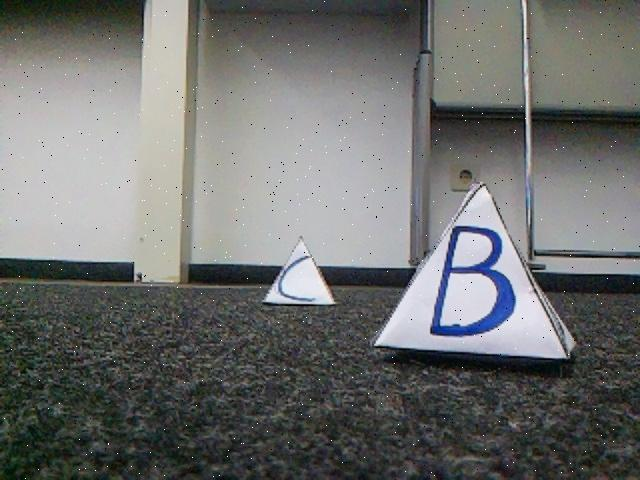B: (372, 182, 567, 359)
C: (263, 235, 337, 308)
